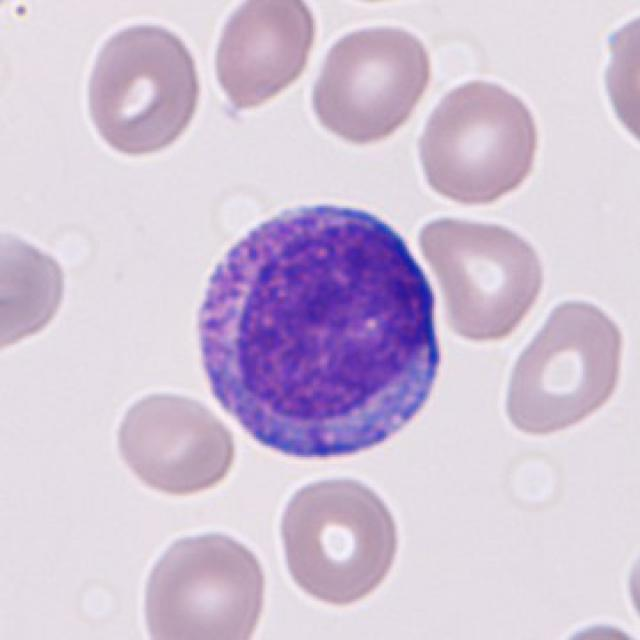Lymphocyte: (180, 187, 452, 475)
RBC: (498, 291, 633, 441), (78, 14, 206, 162), (274, 470, 405, 614), (415, 210, 550, 345), (411, 73, 544, 208), (308, 18, 436, 149), (135, 522, 270, 640), (111, 386, 237, 501), (210, 2, 320, 114), (0, 219, 73, 363), (597, 4, 640, 162), (618, 505, 640, 640), (530, 614, 640, 639)
